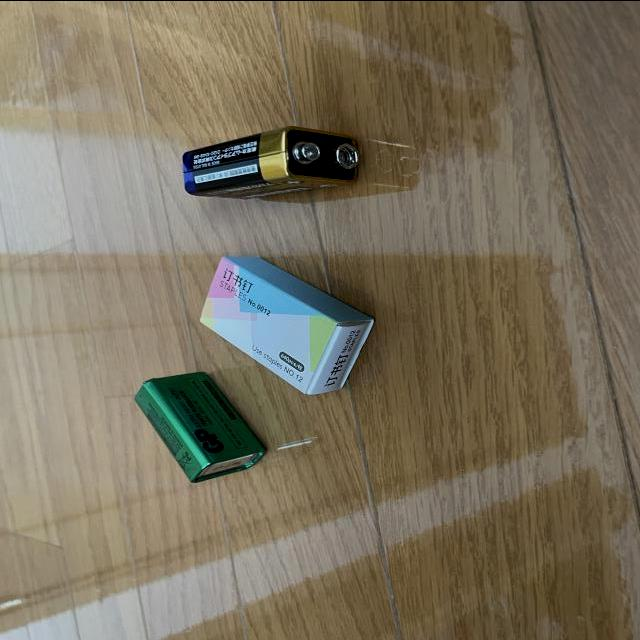9V: (134, 369, 267, 484), (182, 125, 359, 198)
